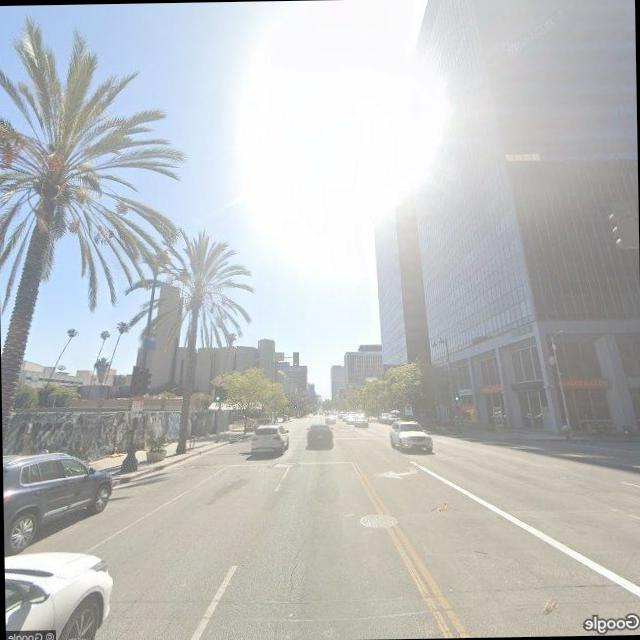crack: (284, 530, 310, 596)
